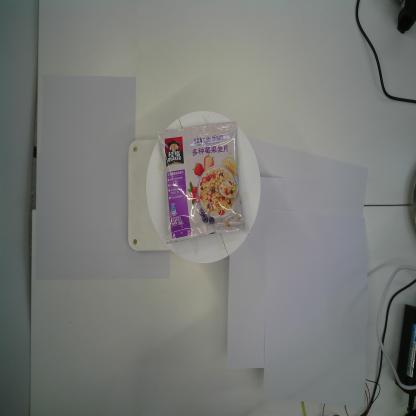Instant Drink: (158, 120, 246, 244)
